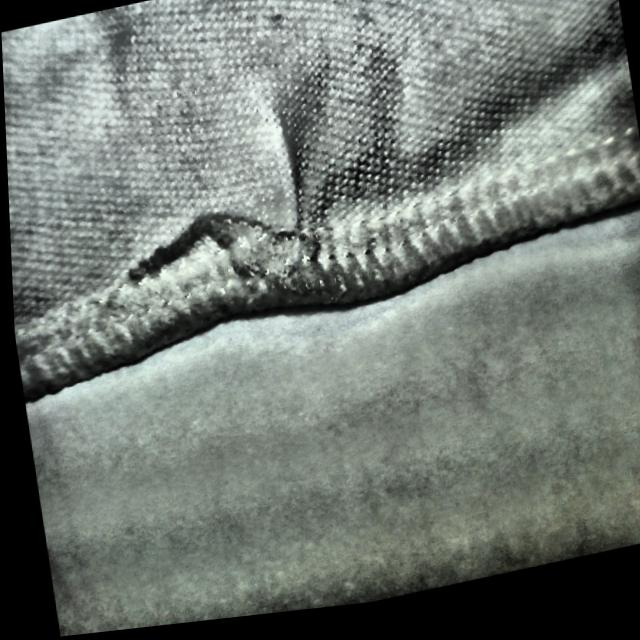seam: (107, 104, 359, 352)
